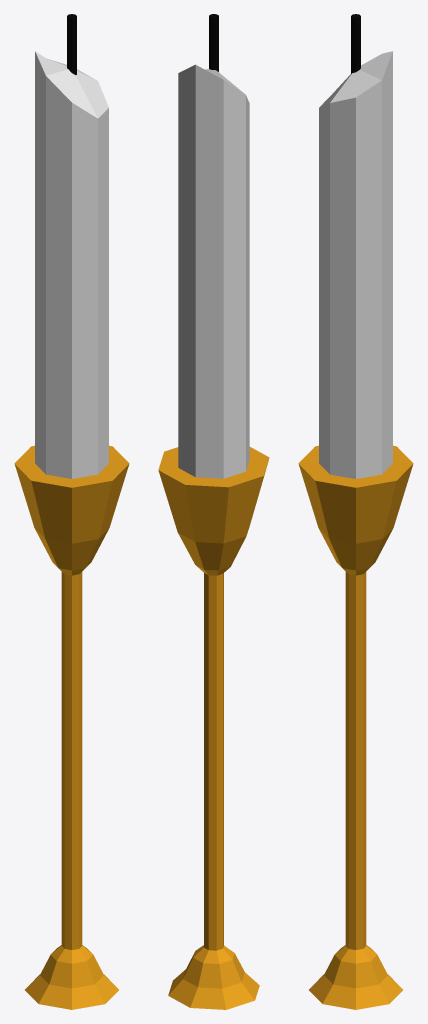
The model's file is Swieca.fbx.
3 views of the same model, side by side, from view 1: azimuth 90°, elevation 25°; view 2: azimuth 150°, elevation 25°; view 3: azimuth 270°, elevation 25° (orthographic).
Visible parts, largest first — view 1: SwiecaSwieca, SwiecaKnot; view 2: SwiecaSwieca, SwiecaKnot; view 3: SwiecaSwieca, SwiecaKnot.
Part boxes in pixels (x1,y1,x2,y2): SwiecaSwieca: [14, 51, 129, 1009]; SwiecaKnot: [67, 14, 76, 75]; SwiecaSwieca: [158, 64, 269, 1009]; SwiecaKnot: [209, 14, 218, 71]; SwiecaSwieca: [298, 51, 413, 1009]; SwiecaKnot: [351, 14, 360, 73].
Size of the model in its own units: 55.7 by 520 by 55.7.
